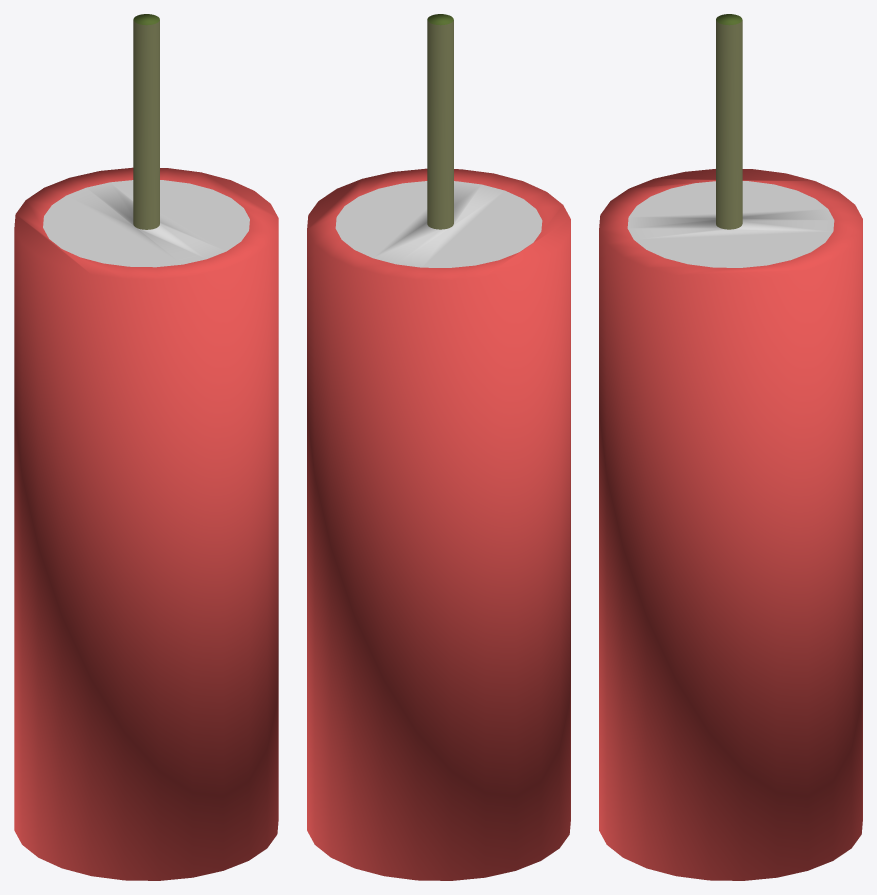
3 views of the same model, side by side, from view 1: azimuth 30°, elevation 25°; view 2: azimuth 150°, elevation 25°; view 3: azimuth 270°, elevation 25° (orthographic).
Visible parts, largest first — view 1: Component#10; view 2: Component#10; view 3: Component#10.
Part boxes in pixels (box(x1,y1,x2,y2)): Component#10: box(14, 14, 278, 880); Component#10: box(307, 14, 570, 880); Component#10: box(599, 14, 862, 880).
Bounding box in the file's own units: 0.0398 × 0.134 × 0.0398.
